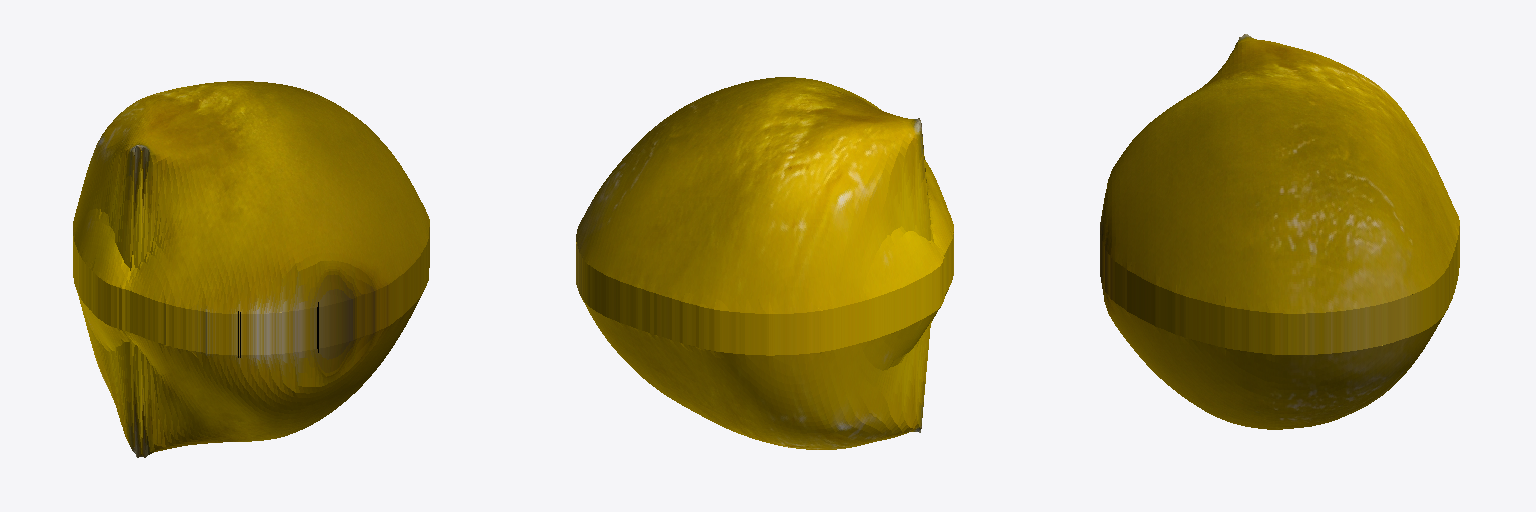
The picture shows the model from 3 angles: view 1: azimuth 30°, elevation 25°; view 2: azimuth 150°, elevation 25°; view 3: azimuth 270°, elevation 25°; orthographic projection.
Parts seen in each view (by area): view 1: Grid; view 2: Grid; view 3: Grid.
Part boxes in pixels (bbox=[...]): Grid: bbox=[73, 81, 429, 457]; Grid: bbox=[576, 77, 953, 449]; Grid: bbox=[1100, 34, 1459, 429].
Bounding box in the file's own units: 1.63 × 1.6 × 1.58.
1 materials, 1 textured.